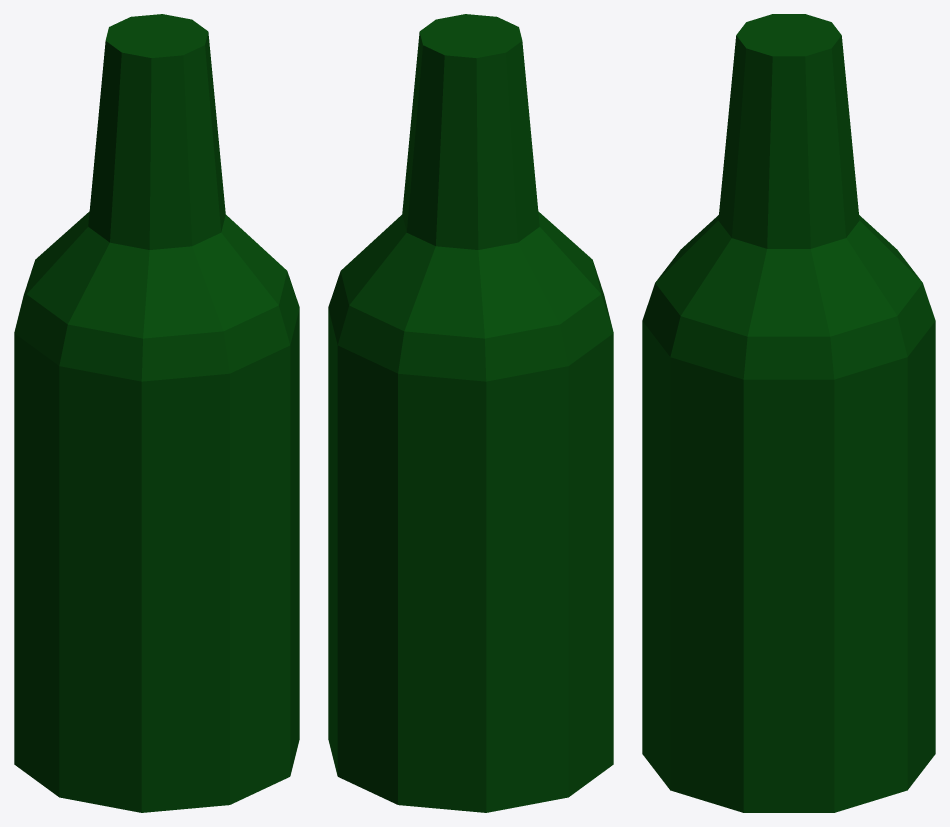
Rendered from Bottle.fbx.
The picture shows the model from 3 angles, left to right: view 1: azimuth 30°, elevation 25°; view 2: azimuth 150°, elevation 25°; view 3: azimuth 270°, elevation 25°; orthographic projection.
Parts seen in each view (by area): view 1: Цилиндр; view 2: Цилиндр; view 3: Цилиндр.
Boxes of the visible parts, left/top/right/bottom form: Цилиндр: left=14, top=14, right=299, bottom=812; Цилиндр: left=328, top=14, right=613, bottom=812; Цилиндр: left=642, top=14, right=935, bottom=812.
Bounding box in the file's own units: 171 × 487 × 180.
